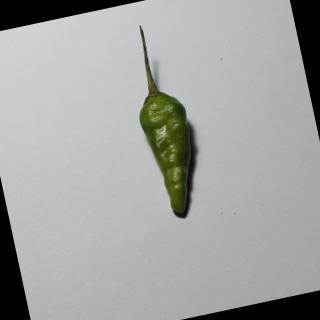Cabai Hijau: (113, 11, 225, 224)
